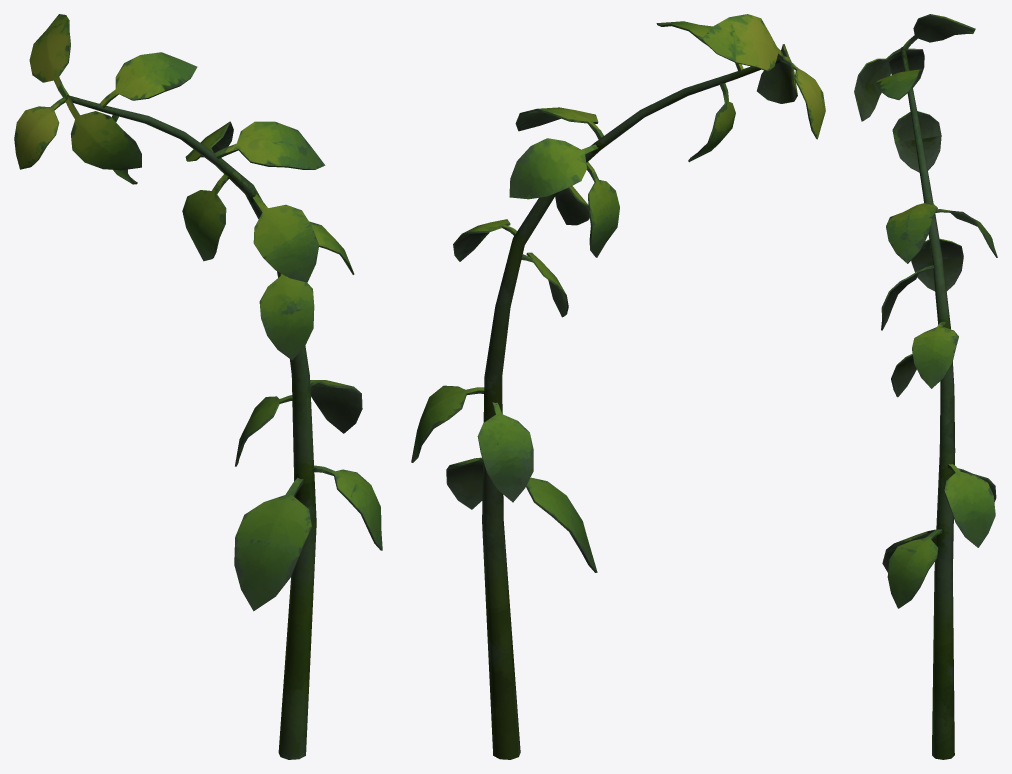
Rendered from plants31.fbx.
3 renders of one model, left to right at view 1: azimuth 30°, elevation 25°; view 2: azimuth 150°, elevation 25°; view 3: azimuth 270°, elevation 25°, orthographic. The views are drawn at different scales.
Parts seen in each view (by area): view 1: Cube.001_Cube.004; view 2: Cube.001_Cube.004; view 3: Cube.001_Cube.004.
Boxes of the visible parts, <box> form: Cube.001_Cube.004: <box>14,14,382,759</box>; Cube.001_Cube.004: <box>411,14,825,759</box>; Cube.001_Cube.004: <box>854,14,997,759</box>.
Size of the model in its own units: 113 by 230 by 46.26.
Materials: 1 (1 with a texture image).
